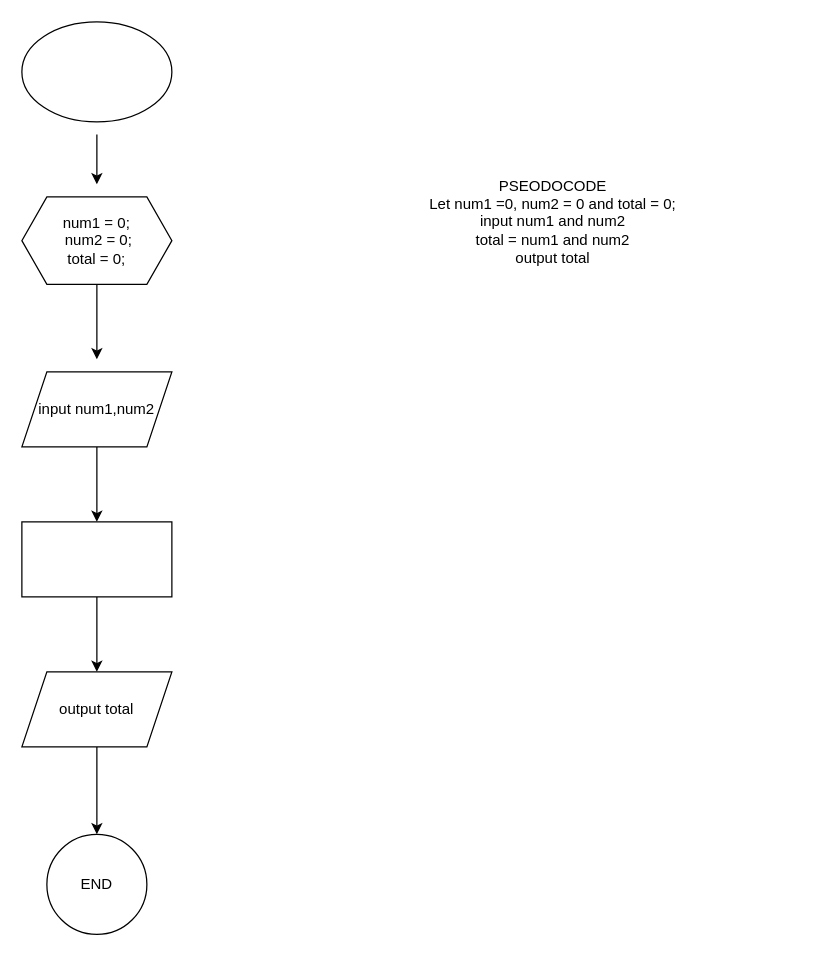
Some shapes in this 819 by 956 pixel diagram are drawn without their labels. Here are the shapes that lost their labels. From the top down, the centre of each, then its label:
the point at 96,71: START
the point at 96,559: total = num1 + num2
